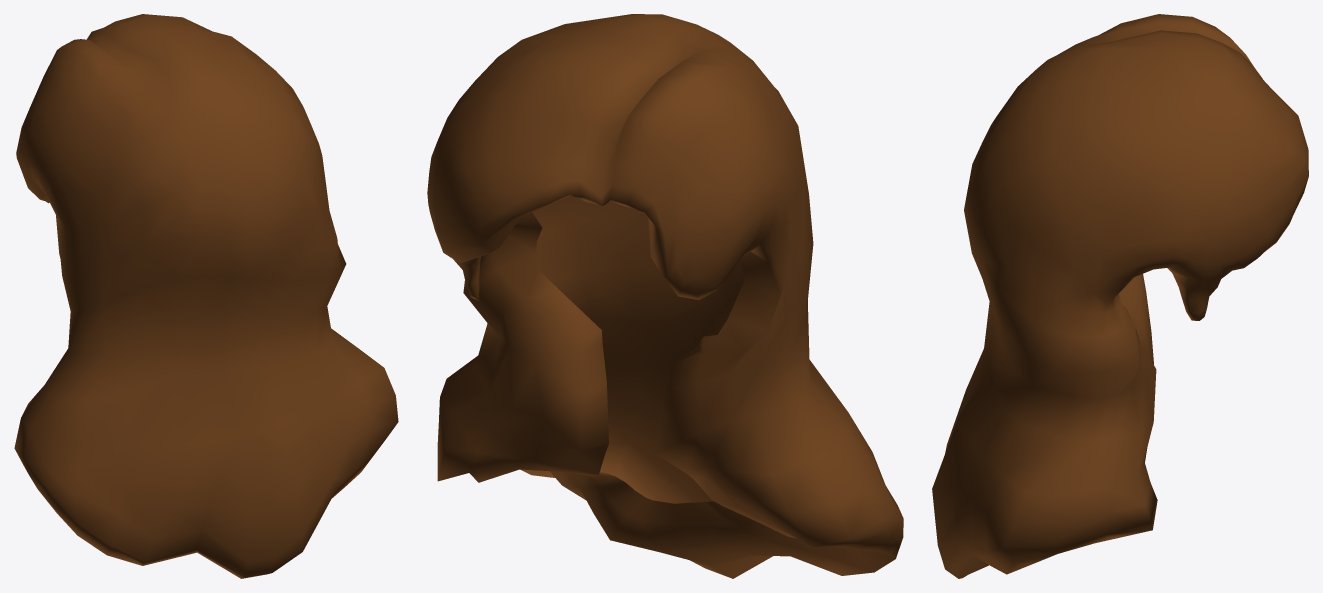
Rendered from Hair_Female_003.glb.
The picture shows the model from 3 angles, left to right: view 1: azimuth 30°, elevation 25°; view 2: azimuth 150°, elevation 25°; view 3: azimuth 270°, elevation 25°; orthographic projection. The views are drawn at different scales.
Parts seen in each view (by area): view 1: Hair_Female_003; view 2: Hair_Female_003; view 3: Hair_Female_003.
Part boxes in pixels (x1=…): Hair_Female_003: x1=14, y1=14, x2=398, y2=578; Hair_Female_003: x1=427, y1=14, x2=903, y2=578; Hair_Female_003: x1=932, y1=14, x2=1308, y2=578.
Bounding box in the file's own units: 0.2864 × 0.3854 × 0.2514.
